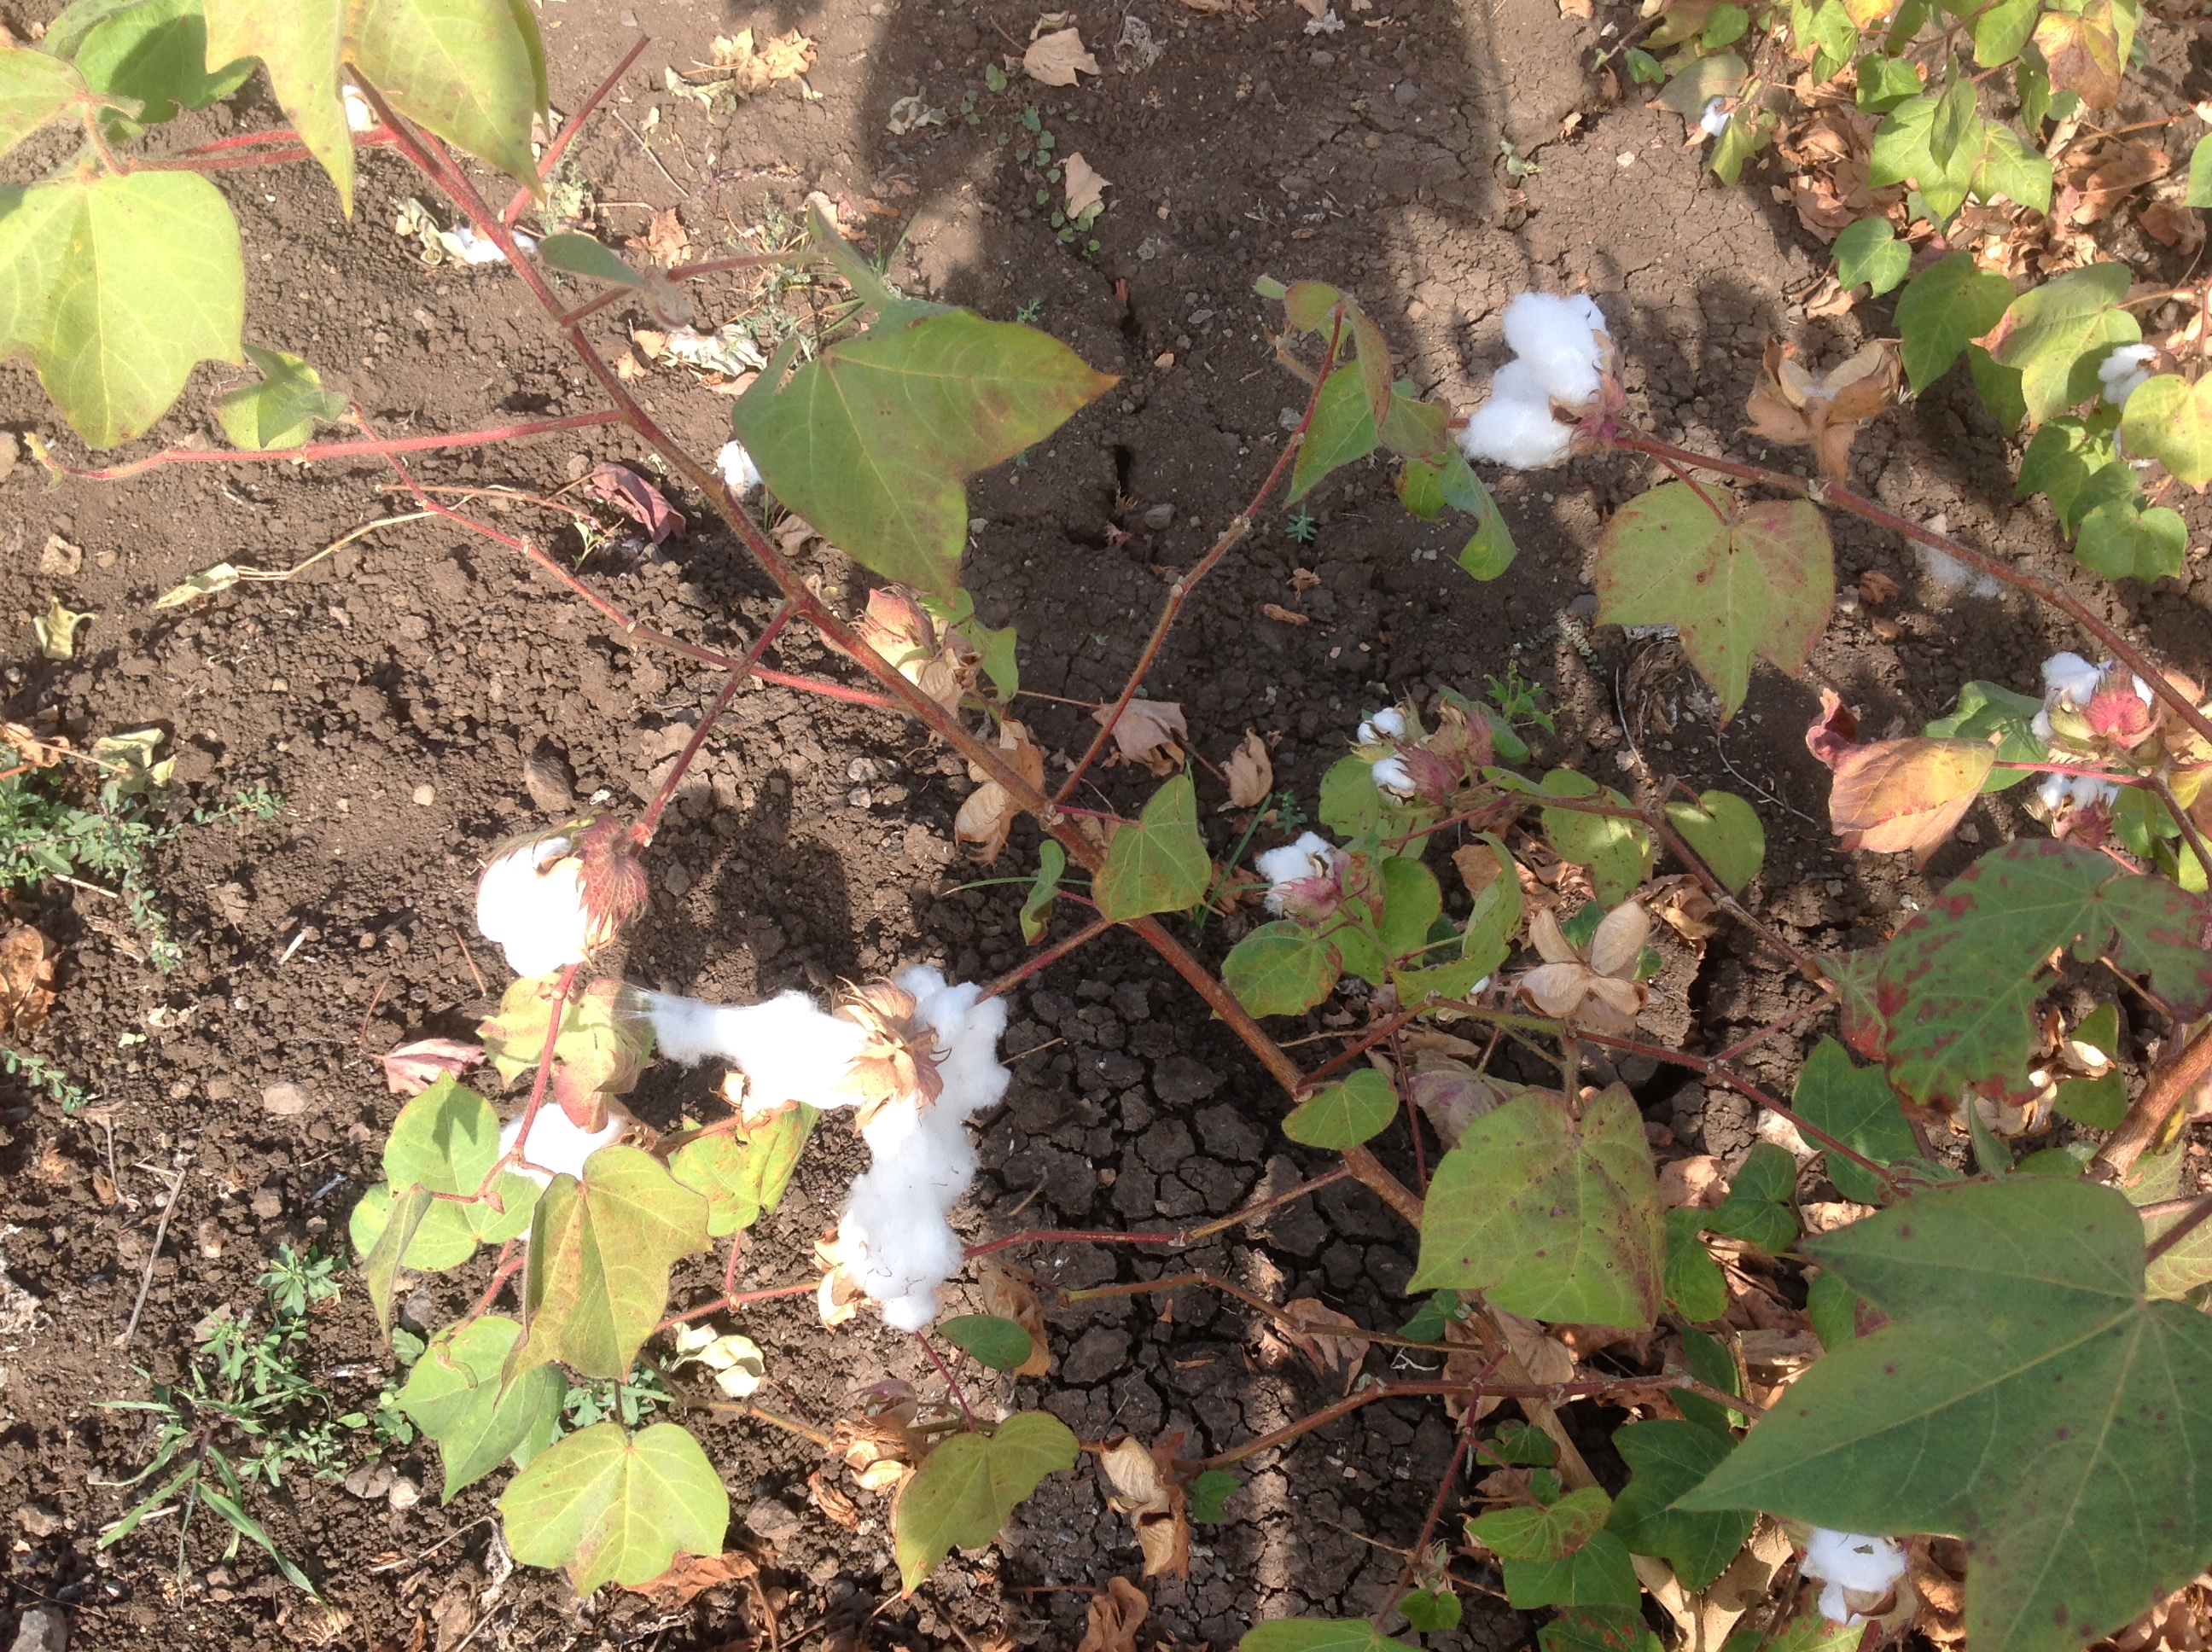cotton: (630, 982, 1010, 1322), (1457, 283, 1639, 493), (461, 826, 647, 973), (1744, 1498, 1934, 1629), (489, 1105, 651, 1246), (2025, 649, 2162, 814), (1341, 691, 1468, 814), (1244, 829, 1376, 935), (2084, 335, 2181, 444)
